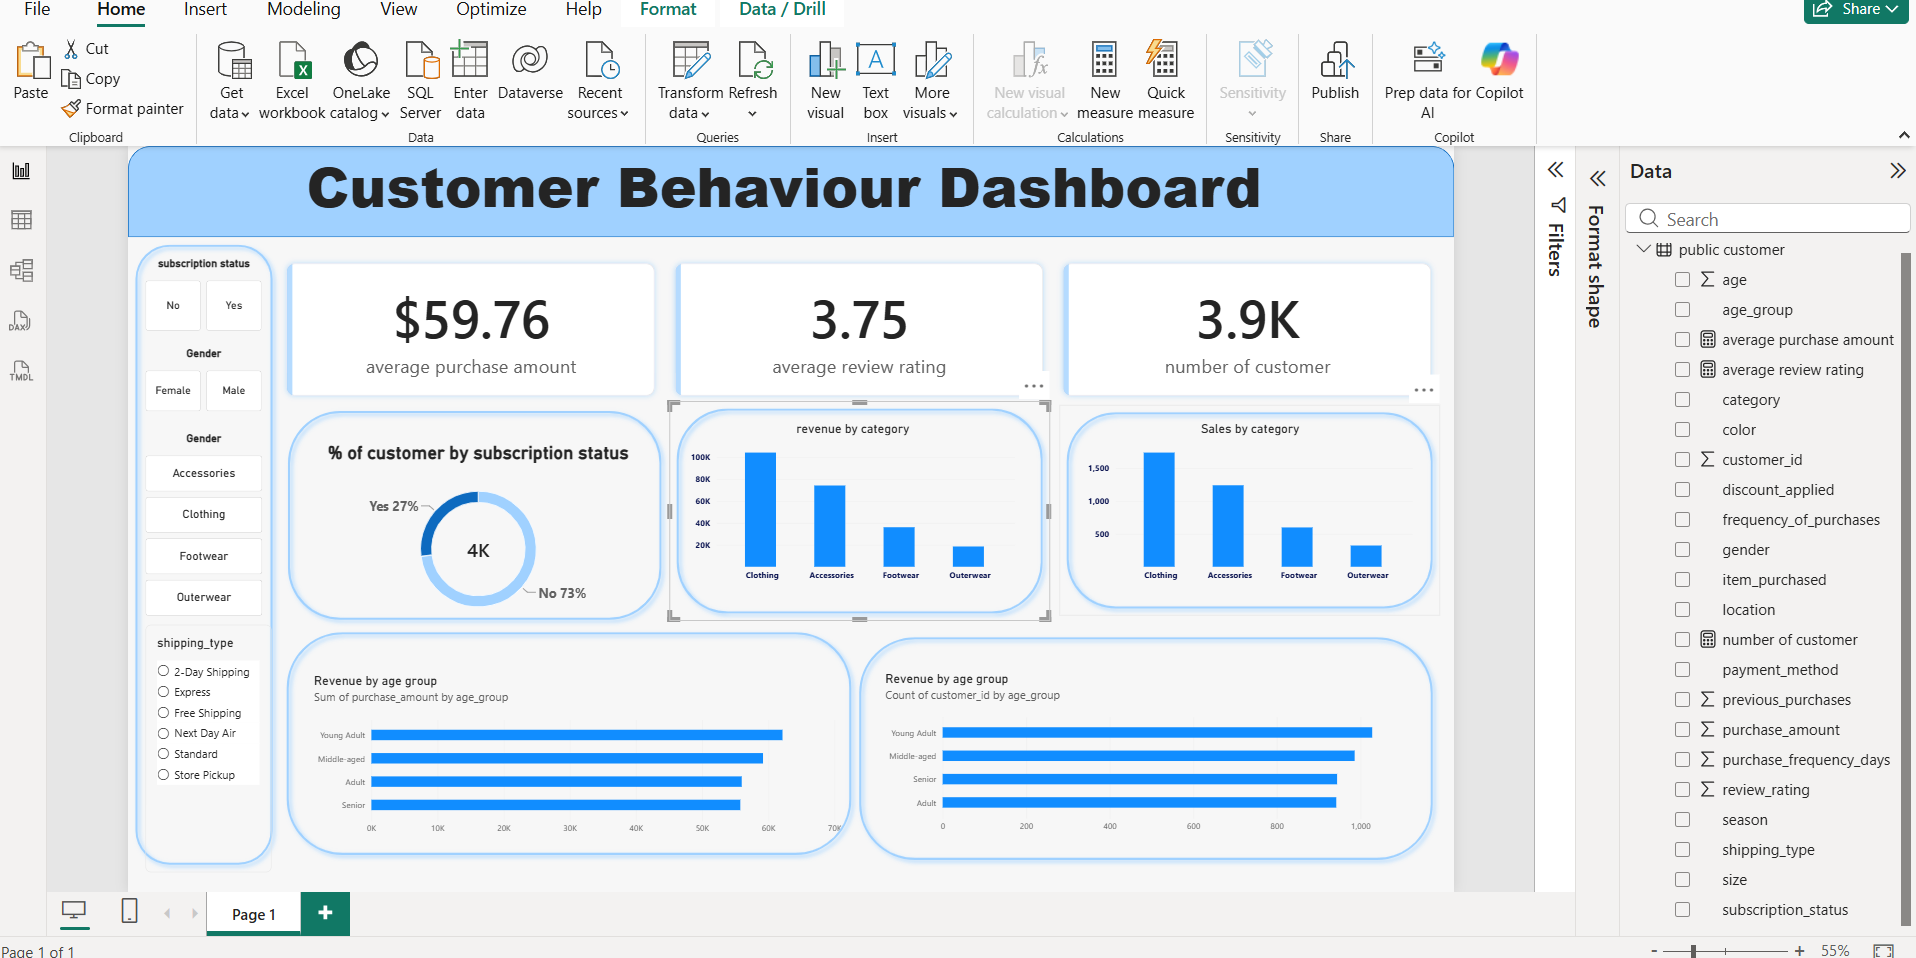

This screenshot's page, from the dashboard's own definition file:
{"tool":"powerbi","page":{"name":"Page 1","canvas":[1920,1080],"ordinal":0},"visuals":[{"type":"cardVisual","fields":{"Data":["public customer.average purchase amount","public customer.average review rating","public customer.number of customer"]},"box":[219.6,160,1680.3,214],"z":0},{"type":"shape","box":[0,0,1920.1,132.1],"z":1000},{"type":"textbox","box":[0,0,1900.1,132.1],"z":2000},{"type":"donutChart","title":"% of customer by subscription status ","fields":{"Category":["public customer.subscription_status"],"Y":["public customer.number of customer"]},"box":[253,415,507.9,293.1],"z":3000},{"type":"shape","box":[220.7,373.4,562.5,324],"z":4000},{"type":"clusteredColumnChart","title":"revenue by category","fields":{"Category":["public customer.category"],"Y":["Sum(public customer.purchase_amount)"]},"box":[797.3,384.1,502.4,266.1],"z":5000},{"type":"clusteredColumnChart","title":"Sales by category","fields":{"Category":["public customer.category"],"Y":["CountNonNull(public customer.customer_id)"]},"box":[1374.3,384.1,502.4,266.1],"z":6000},{"type":"shape","box":[783.6,369.7,551.5,318.5],"z":7000},{"type":"shape","box":[1348.8,375,551.5,305.8],"z":8000},{"type":"shape","box":[0,132.9,220.3,919.2],"z":9000},{"type":"advancedSlicerVisual","title":"subscription status","fields":{"Values":["public customer.subscription_status"]},"box":[25.5,160.2,169.3,107.4],"z":10000},{"type":"advancedSlicerVisual","title":"Gender","fields":{"Values":["public customer.gender"]},"box":[25.5,291.2,169.3,92.8],"z":10001},{"type":"advancedSlicerVisual","title":"Gender","fields":{"Values":["public customer.category"]},"box":[25.5,415,169.3,265.8],"z":10002},{"type":"listSlicer","fields":{"Values":["public customer.shipping_type"]},"box":[25.5,693.5,182,358.6],"z":10003},{"type":"clusteredBarChart","title":"Revenue by age group","fields":{"Category":["public customer.age_group"],"Y":["Sum(public customer.purchase_amount)"]},"box":[253,749.9,795.5,267.6],"z":10004},{"type":"shape","box":[219,693.1,839.1,344],"z":10005},{"type":"shape","box":[1048.5,700.8,851.9,344],"z":10006},{"type":"clusteredBarChart","title":"Revenue by age group","fields":{"Category":["public customer.age_group"],"Y":["CountNonNull(public customer.customer_id)"]},"box":[1080.4,745.6,795.5,267.6],"z":10007}]}

Visuals, with their boxes on the page's 1920x1080 design canvas (x1, y1, x2, y2). These are canvas units, not pixel positions in the 1916x958 screenshot, which may show the page scaled, cropped or inside an application window:
cardVisual - public customer.average purchase amount x public customer.average review rating: (220,160,1900,374)
shape: (0,0,1920,132)
textbox: (0,0,1900,132)
"% of customer by subscription status " donutChart: (253,415,761,708)
shape: (221,373,783,697)
"revenue by category" clusteredColumnChart: (797,384,1300,650)
"Sales by category" clusteredColumnChart: (1374,384,1877,650)
shape: (784,370,1335,688)
shape: (1349,375,1900,681)
shape: (0,133,220,1052)
"subscription status" advancedSlicerVisual: (26,160,195,268)
"Gender" advancedSlicerVisual: (26,291,195,384)
"Gender" advancedSlicerVisual: (26,415,195,681)
listSlicer - public customer.shipping_type: (26,694,208,1052)
"Revenue by age group" clusteredBarChart: (253,750,1048,1018)
shape: (219,693,1058,1037)
shape: (1048,701,1900,1045)
"Revenue by age group" clusteredBarChart: (1080,746,1876,1013)
